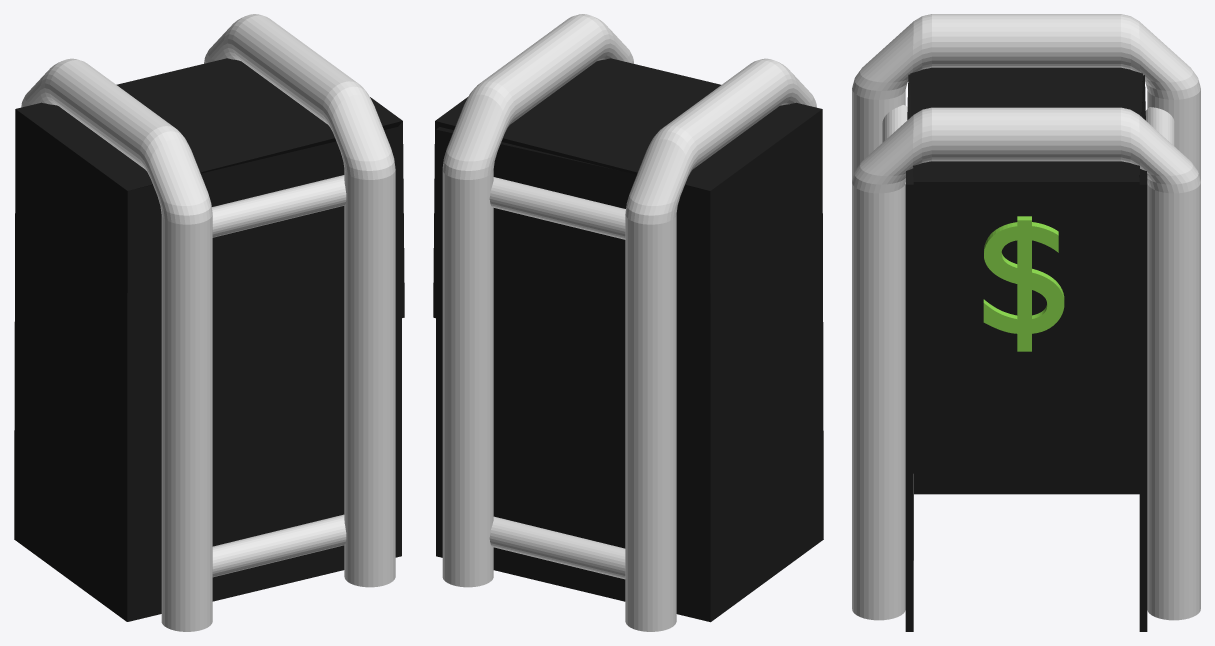
Rendered from sell (1).fbx.
3 views of the same model, side by side, from view 1: azimuth 30°, elevation 25°; view 2: azimuth 150°, elevation 25°; view 3: azimuth 270°, elevation 25° (orthographic). The views are drawn at different scales.
Visible parts, largest first — view 1: Plane.002, Cylinder.019, Cylinder.017, Cylinder.018, Cylinder.020, Cylinder.021, Cylinder.022; view 2: Plane.002, Cylinder.020, Cylinder.018, Cylinder.023, Cylinder.024, Cylinder.017, Cylinder.019; view 3: Plane.002, Cylinder.018, Cylinder.017, Cylinder.020, Cylinder.019, Text.002, Cylinder.023, Cylinder.021.
Boxes of the visible parts, <box> form: Plane.002: <box>14,58,404,621</box>; Cylinder.019: <box>103,99,212,631</box>; Cylinder.017: <box>286,55,395,587</box>; Cylinder.018: <box>204,14,322,97</box>; Cylinder.020: <box>21,58,138,142</box>; Cylinder.021: <box>212,175,346,237</box>; Cylinder.022: <box>212,514,346,577</box>; Plane.002: <box>433,58,823,622</box>; Cylinder.020: <box>625,86,752,631</box>; Cylinder.018: <box>442,41,569,587</box>; Cylinder.023: <box>489,177,625,239</box>; Cylinder.024: <box>489,516,625,579</box>; Cylinder.017: <box>533,14,633,84</box>; Cylinder.019: <box>716,58,816,129</box>; Plane.002: <box>905,67,1147,631</box>; Cylinder.018: <box>1007,107,1200,620</box>; Cylinder.017: <box>852,107,1007,620</box>; Cylinder.020: <box>1007,14,1200,181</box>; Cylinder.019: <box>852,14,1007,181</box>; Text.002: <box>983,216,1064,351</box>; Cylinder.023: <box>1145,107,1174,146</box>; Cylinder.021: <box>882,105,907,183</box>.
Bounding box in the file's own units: 62.19 × 98.67 × 62.52.
